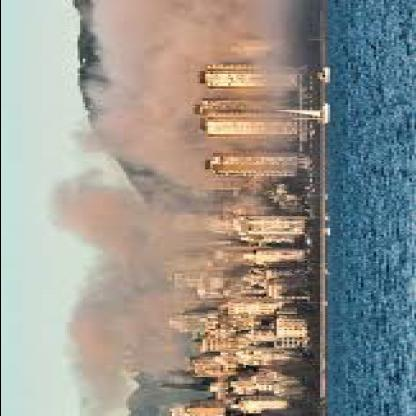Smoke: (54, 186, 170, 370), (97, 2, 187, 158)
